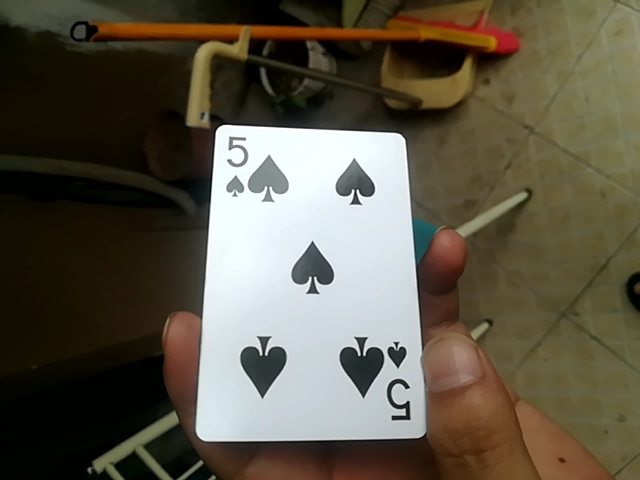ht 5: (190, 119, 424, 441)
